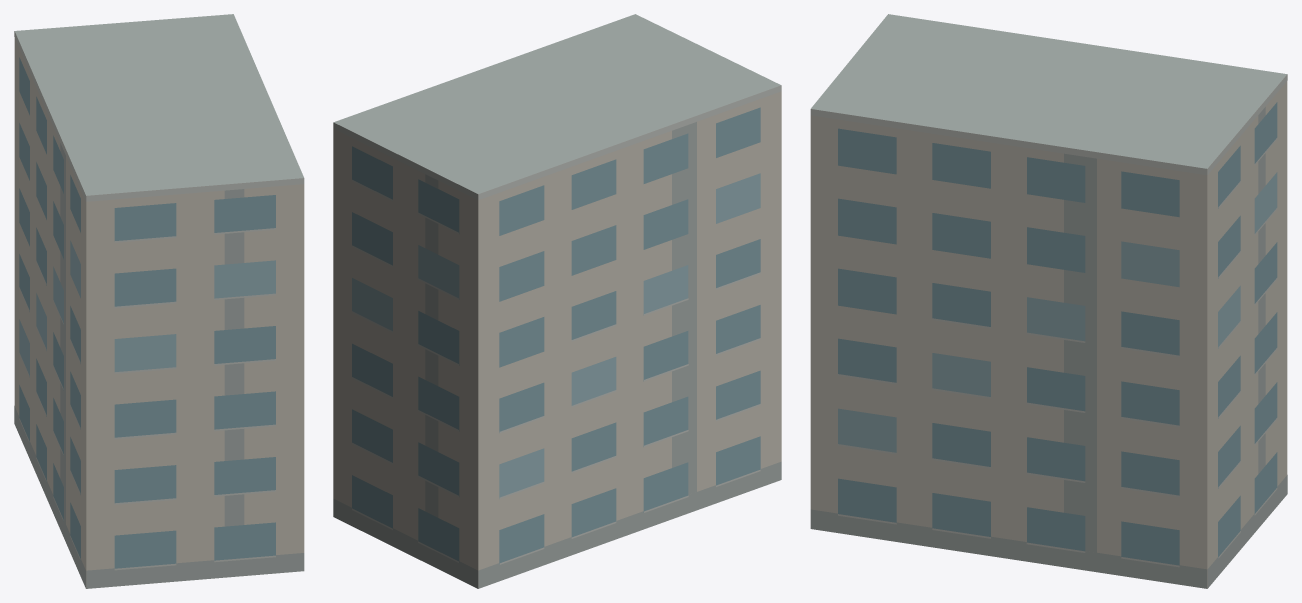
Rendered from survey-upis-32947933.glb.
The picture shows the model from 3 angles, left to right: view 1: azimuth 30°, elevation 25°; view 2: azimuth 150°, elevation 25°; view 3: azimuth 270°, elevation 25°; orthographic projection. The views are drawn at different scales.
Visible parts, largest first — view 1: survey-upis-32947933.tmp; view 2: survey-upis-32947933.tmp; view 3: survey-upis-32947933.tmp.
Part boxes in pixels (<box>): survey-upis-32947933.tmp: <box>14,14,304,588</box>; survey-upis-32947933.tmp: <box>333,14,781,588</box>; survey-upis-32947933.tmp: <box>810,14,1287,588</box>.
Size of the model in its own units: 12.5 by 15.8 by 16.27.
